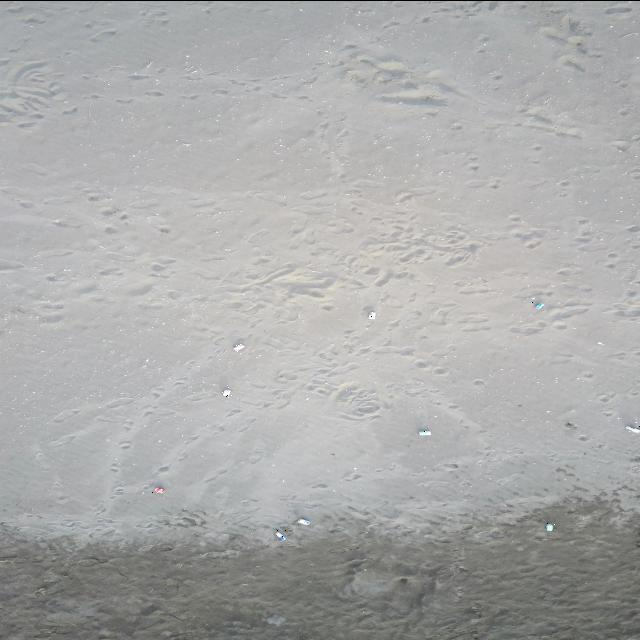Garbage: (268, 613, 286, 624), (276, 528, 286, 540), (625, 424, 639, 432), (532, 298, 543, 307), (418, 427, 430, 435), (296, 517, 310, 523), (221, 387, 230, 396), (233, 343, 243, 351), (151, 487, 164, 492), (545, 523, 553, 531), (367, 311, 375, 319)
